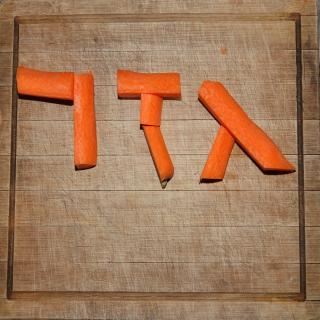Carrot: (194, 75, 292, 185), (15, 66, 96, 171), (118, 70, 182, 189)
